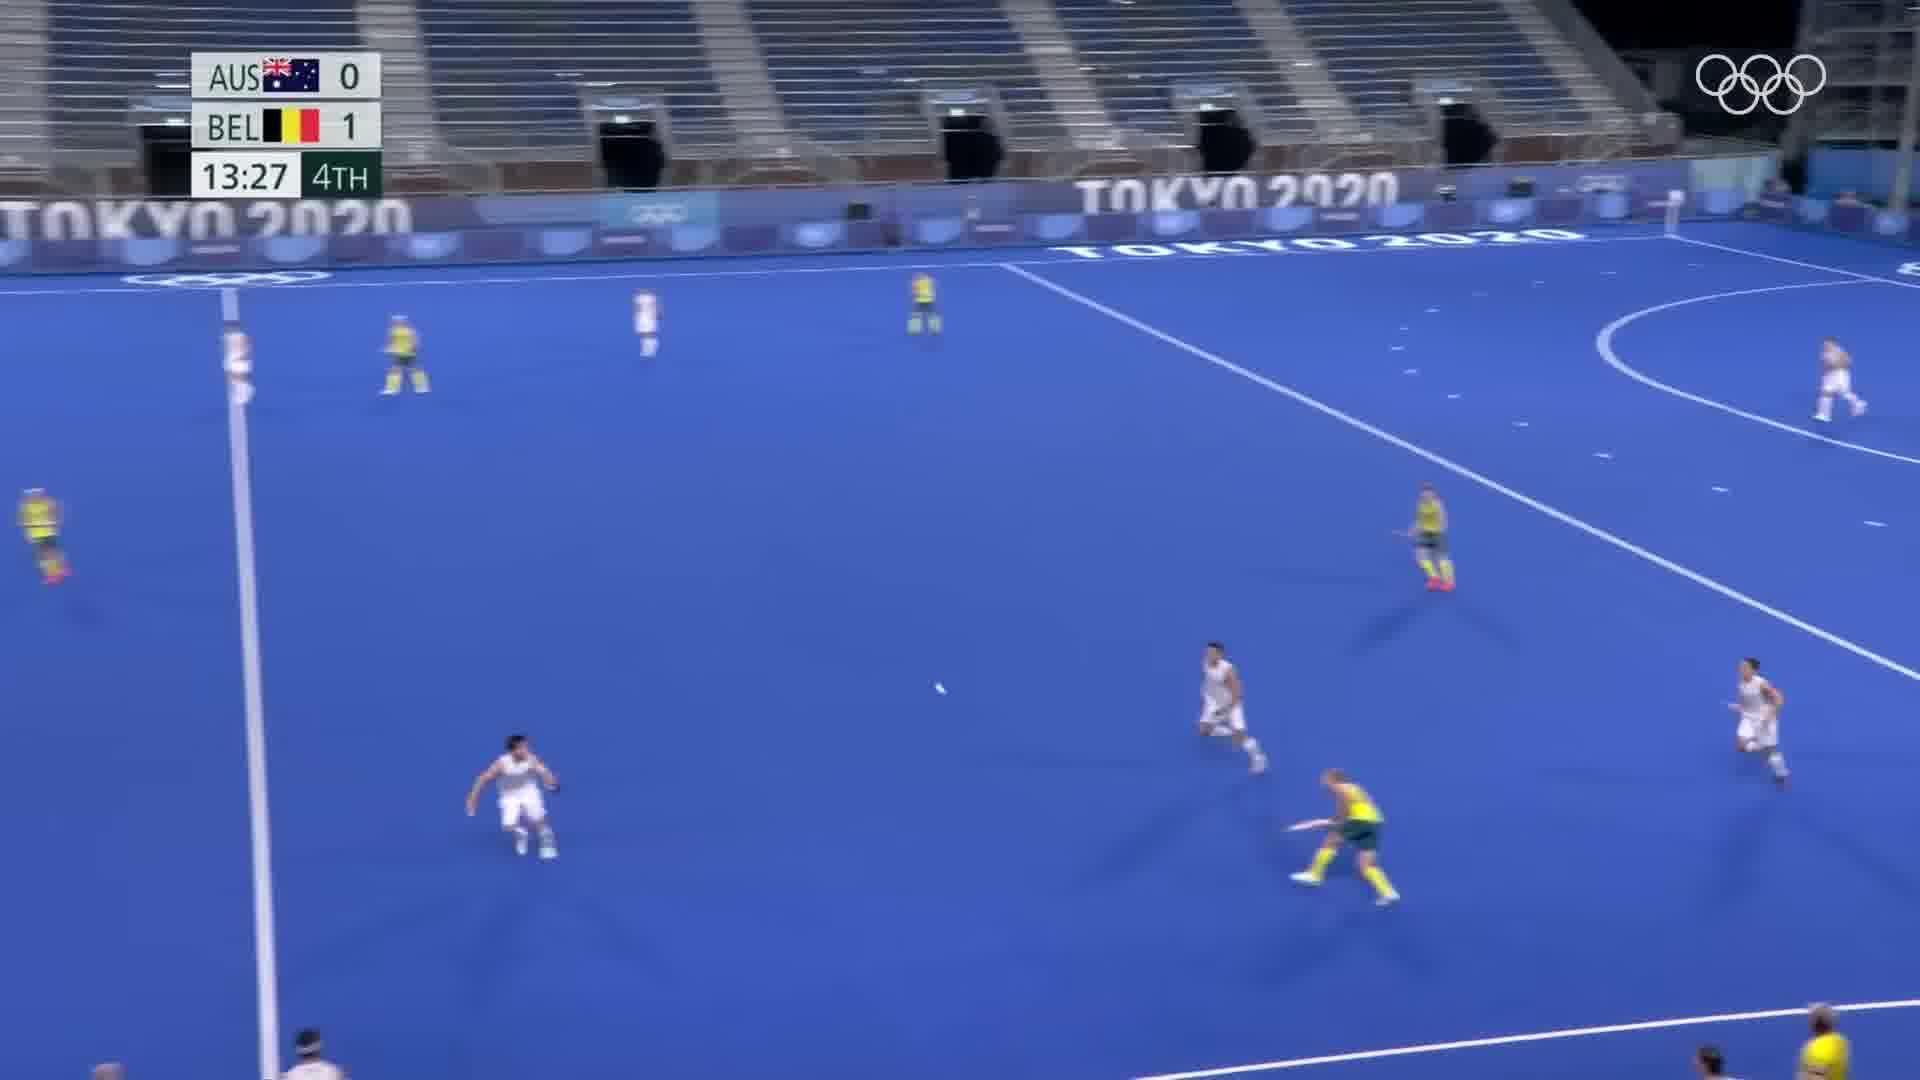ball: (920, 673, 952, 703)
